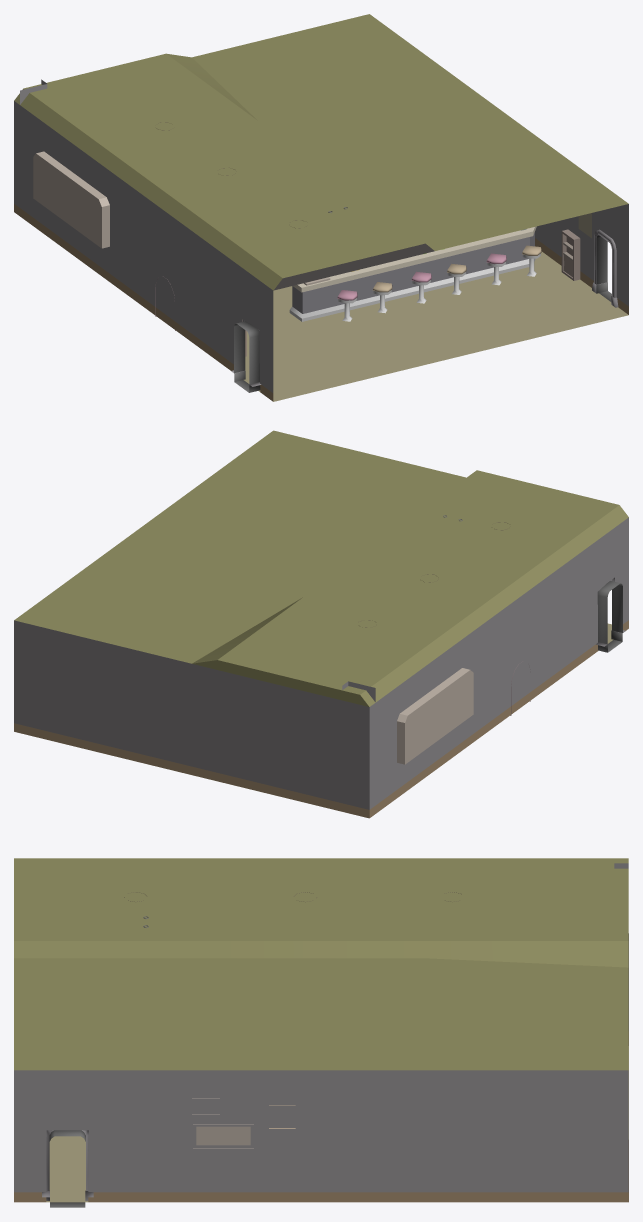
The model's file is Room1.dae.
3 renders of one model, top to bottom at view 1: azimuth 30°, elevation 25°; view 2: azimuth 150°, elevation 25°; view 3: azimuth 270°, elevation 25°, orthographic. The views are drawn at different scales.
Parts seen in each view (by area): view 1: SubMesh_108; view 2: SubMesh_108; view 3: SubMesh_108.
Boxes of the visible parts, <box> form: SubMesh_108: <box>14,14,628,401</box>; SubMesh_108: <box>14,430,628,818</box>; SubMesh_108: <box>14,858,628,1207</box>.
Bounding box in the file's own units: 20.61 × 24.78 × 6.7.
